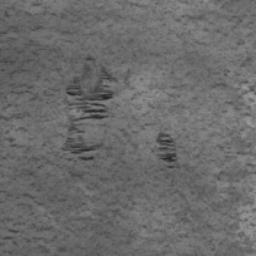Secondary rust skin: (65, 65, 118, 134), (69, 141, 104, 162), (155, 131, 177, 164)
